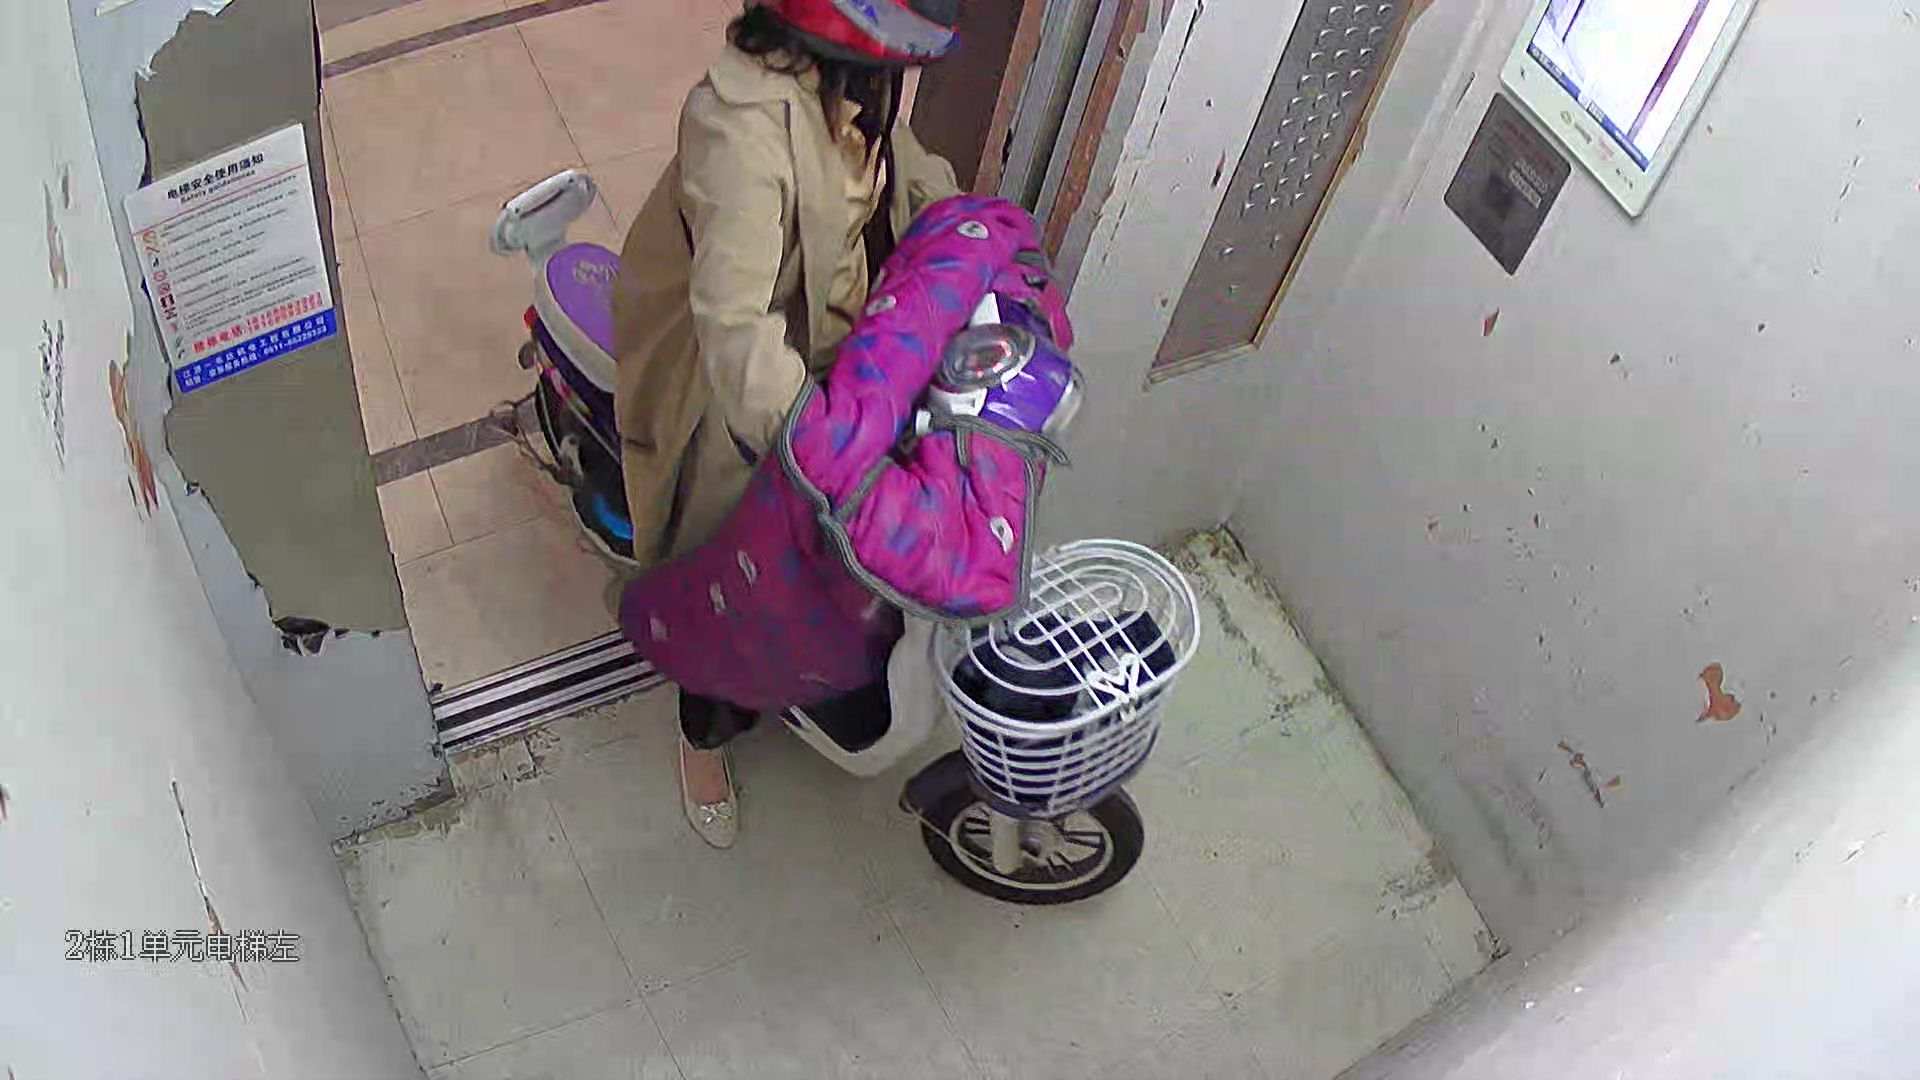Electric-bicycle: (483, 165, 1205, 905)
